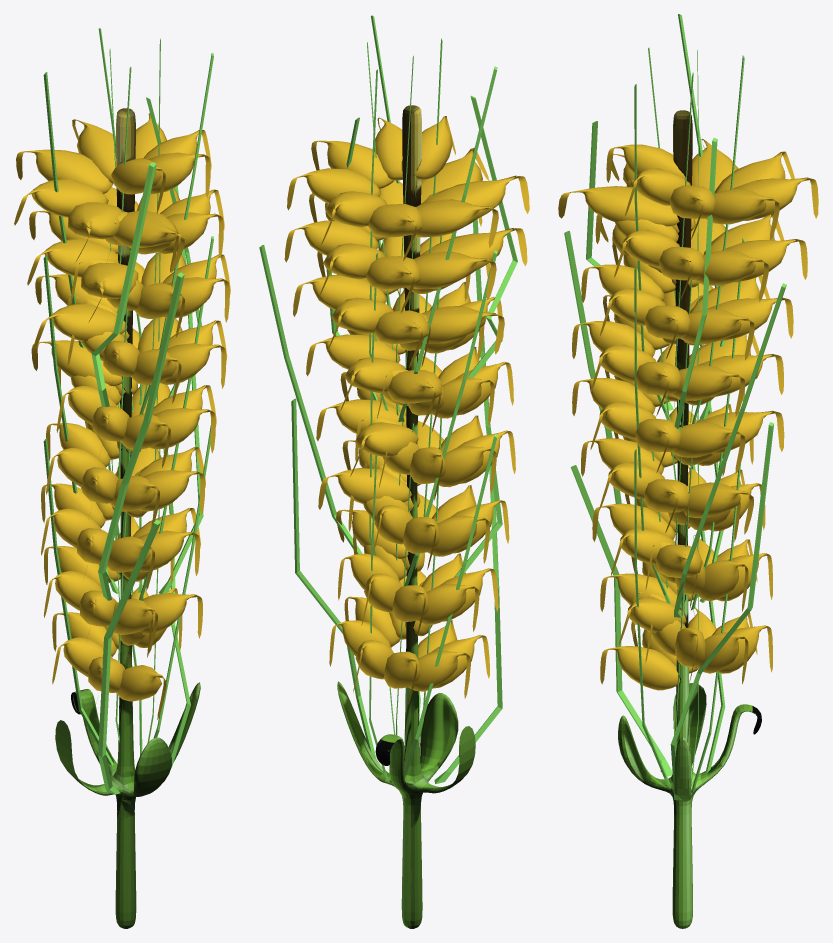
File: maizi2.glb
3 renders of one model, left to right at view 1: azimuth 30°, elevation 25°; view 2: azimuth 150°, elevation 25°; view 3: azimuth 270°, elevation 25°, orthographic.
Parts seen in each view (by area): view 1: Cube.001, Cube.002, Cube; view 2: Cube.001, Cube.002, Cube; view 3: Cube.001, Cube.002, Cube.
Part boxes in pixels (x1,y1,x2,y2): Cube.001: [14, 113, 230, 719]; Cube.002: [43, 28, 213, 794]; Cube: [55, 108, 200, 928]; Cube.001: [284, 116, 529, 705]; Cube.002: [259, 15, 517, 789]; Cube: [337, 105, 475, 928]; Cube.001: [558, 139, 818, 690]; Cube.002: [564, 14, 786, 800]; Cube: [618, 110, 761, 928].
Bounding box in the file's own units: 1.33 × 5.66 × 1.52.
4 materials, 1 textured.
